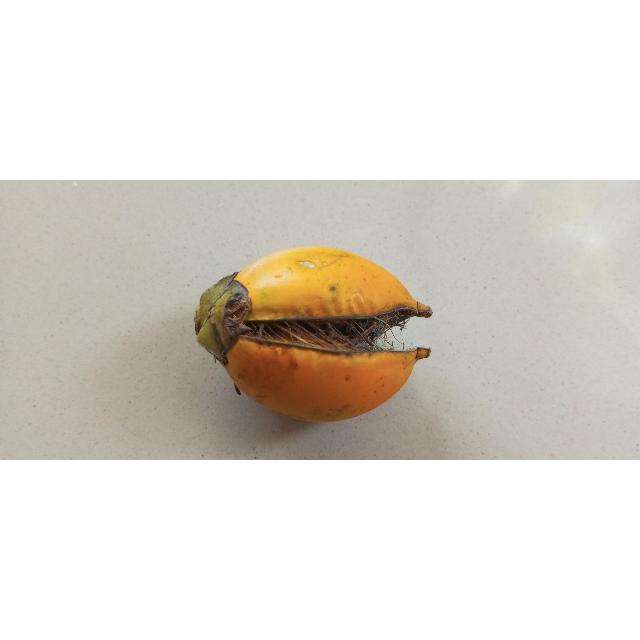damaged: (194, 247, 433, 424)
